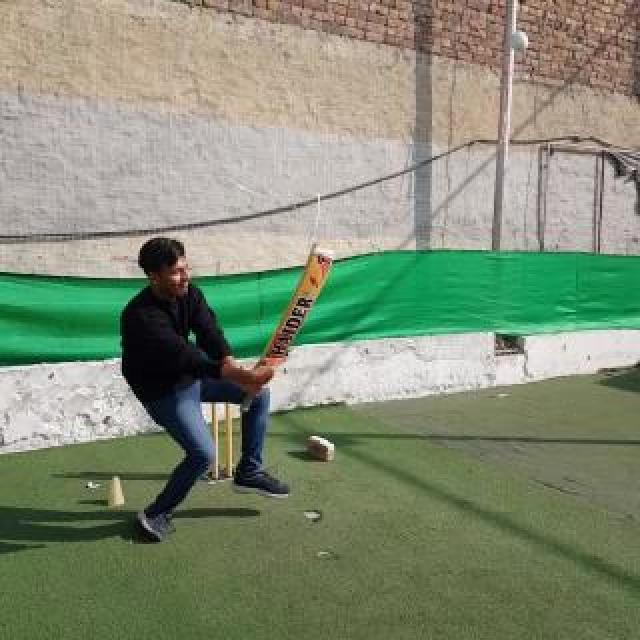ball: (510, 32, 528, 52)
bat: (240, 242, 336, 414)
